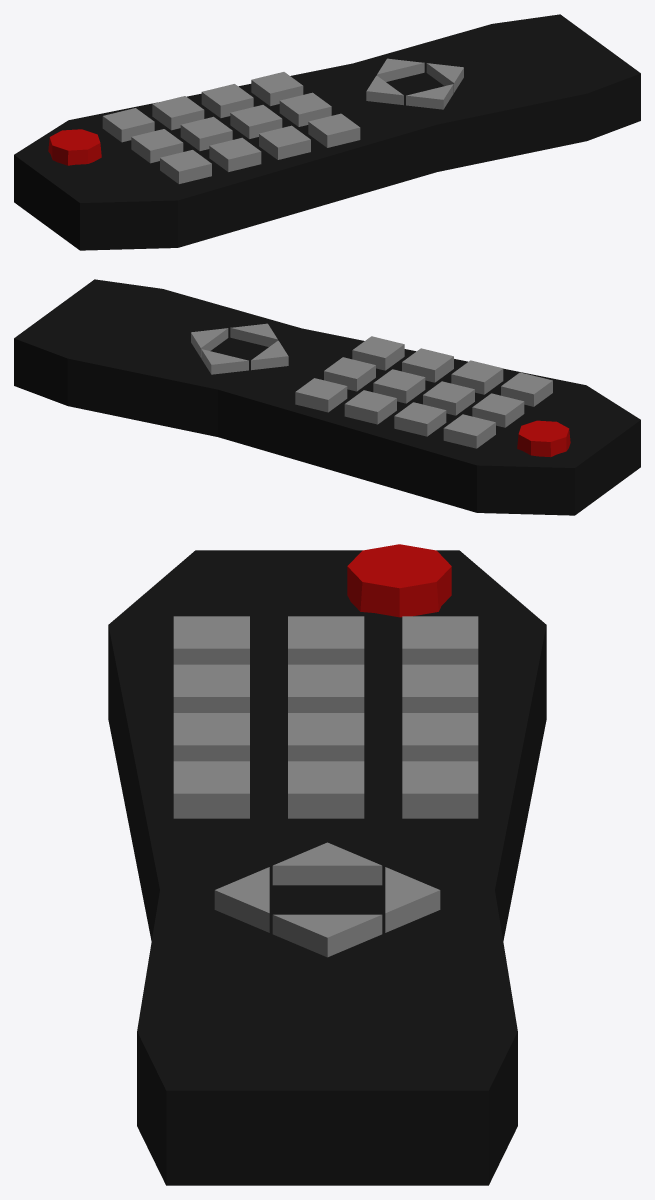
File: TV-Remote.fbx
The picture shows the model from 3 angles, top to bottom: view 1: azimuth 30°, elevation 25°; view 2: azimuth 150°, elevation 25°; view 3: azimuth 270°, elevation 25°; orthographic projection. The views are drawn at different scales.
Visible parts, largest first — view 1: Cube.006; view 2: Cube.006; view 3: Cube.006.
Part boxes in pixels (bbox=[...]): Cube.006: bbox=[14, 14, 640, 250]; Cube.006: bbox=[14, 279, 640, 515]; Cube.006: bbox=[108, 544, 546, 1185].
Bounding box in the file's own units: 3.32 × 0.3552 × 1.14.
